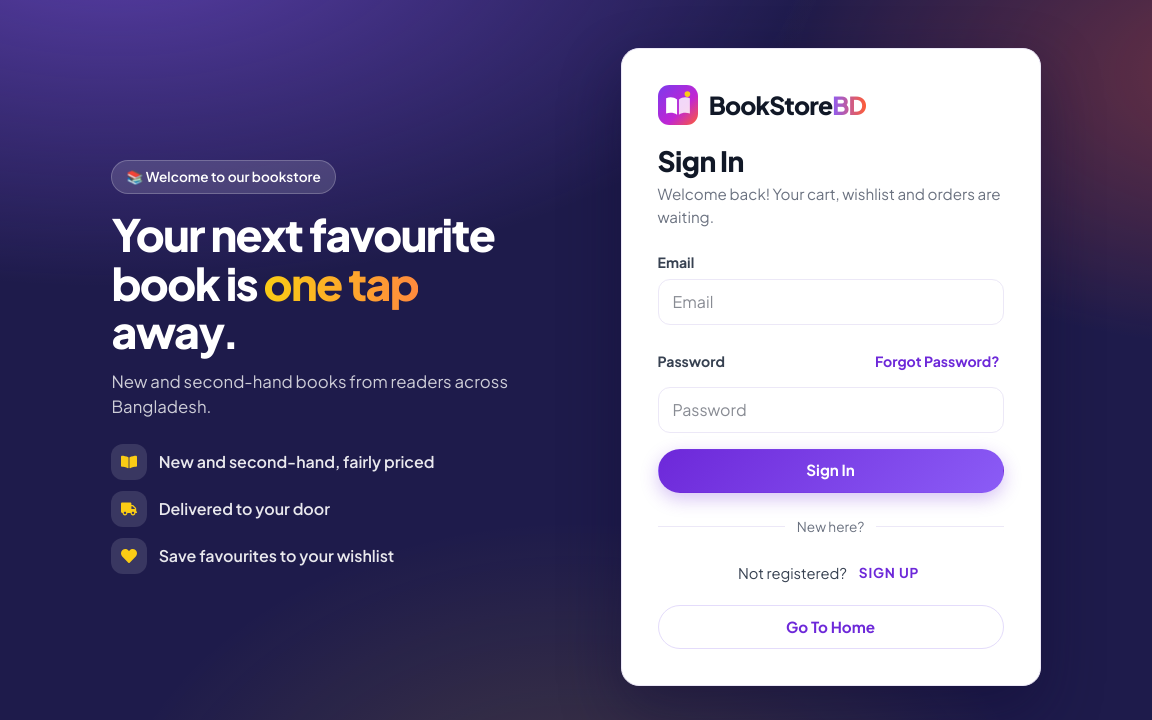
Scenario: the password reset dialog › starts again at the first step each time it opens
Click the button "Forgot Password?" at point(937, 361), box x1=871 y1=341 x2=1004 y2=381
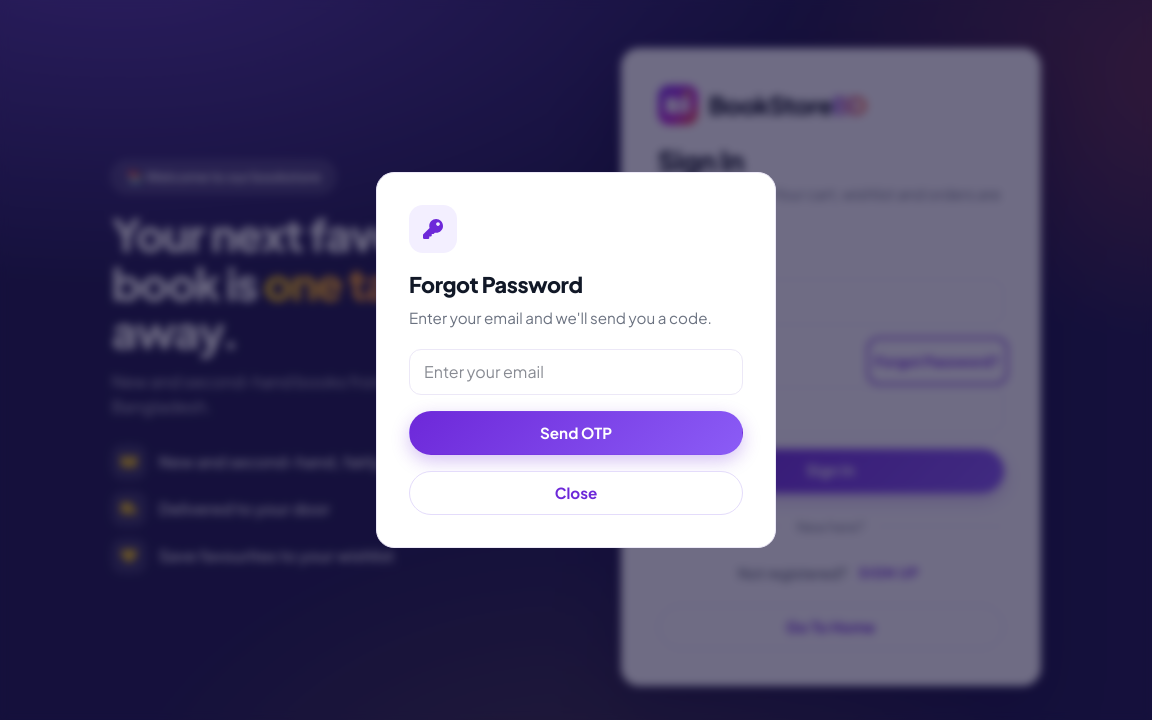
Type "reader@test.com" into the field labelled "email" at point(576, 372), box x1=409 y1=349 x2=743 y2=395
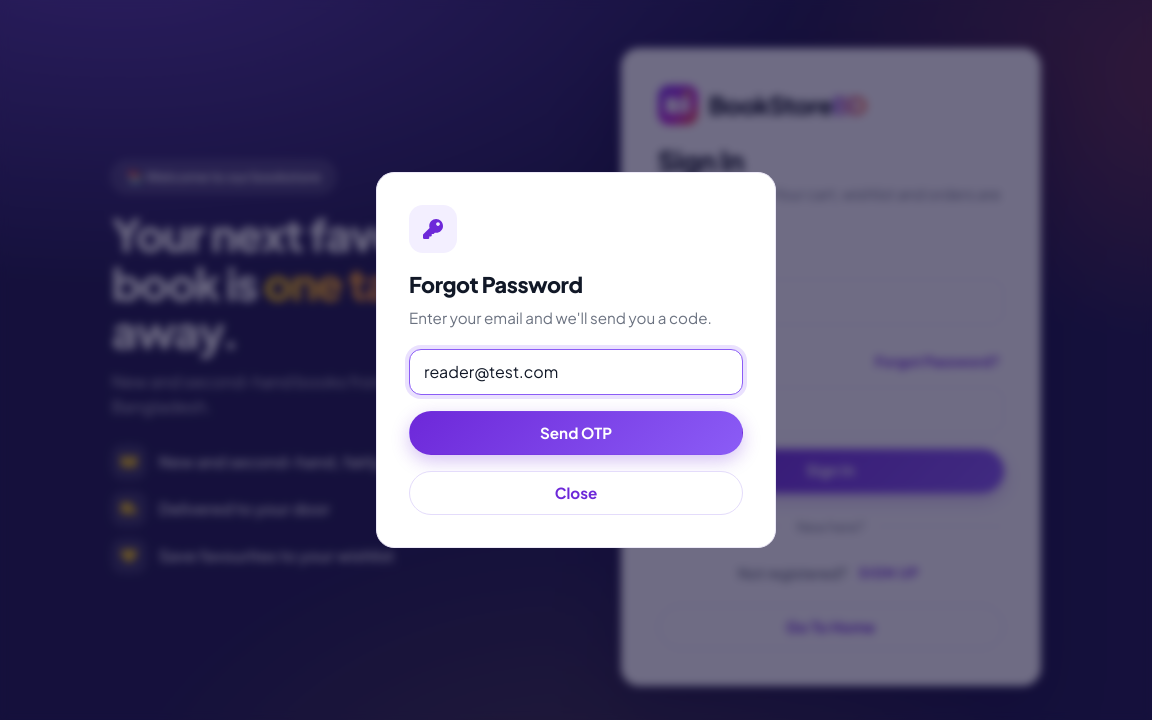
Click the button "Send OTP" at point(576, 433), box x1=409 y1=411 x2=743 y2=455
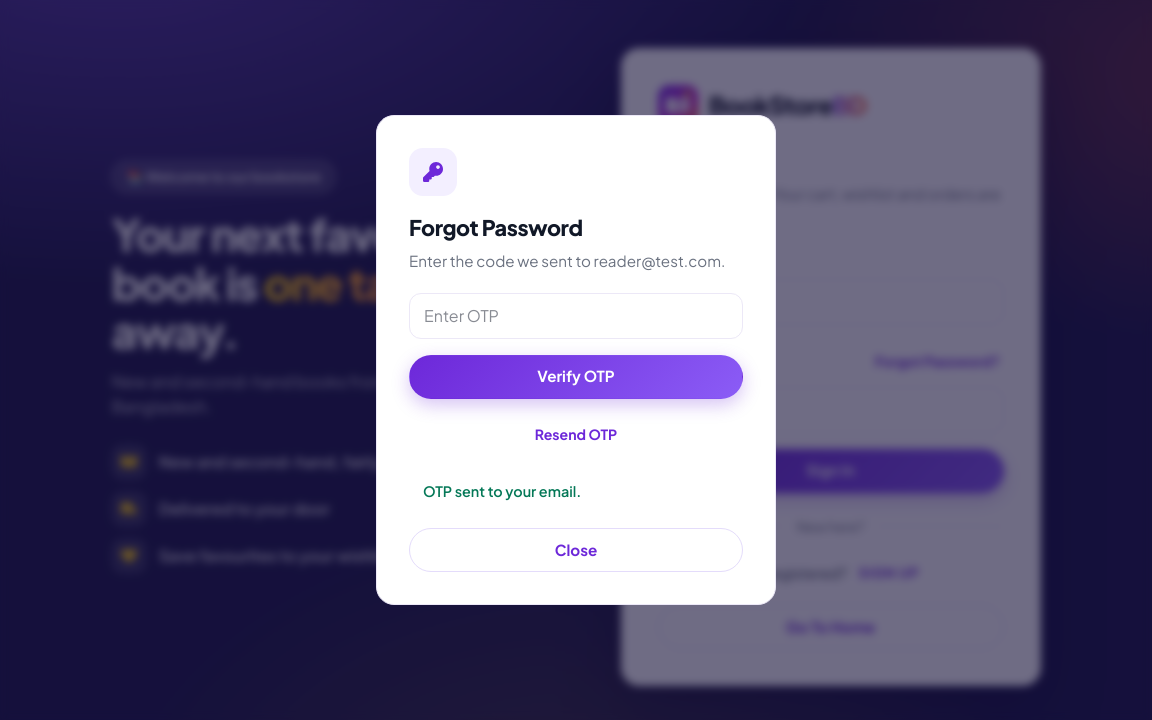
Type "123456" into the field labelled "OTP" at point(576, 316), box x1=409 y1=293 x2=743 y2=339
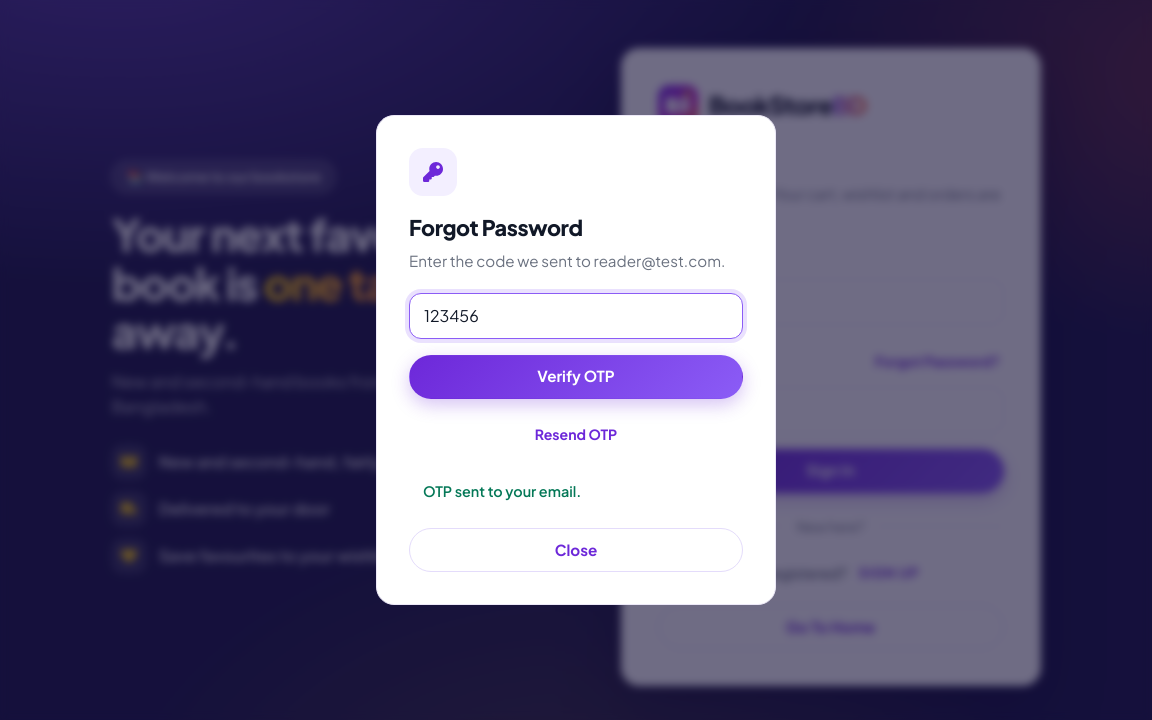
Click the button "Close" at point(576, 550), box x1=409 y1=528 x2=743 y2=572
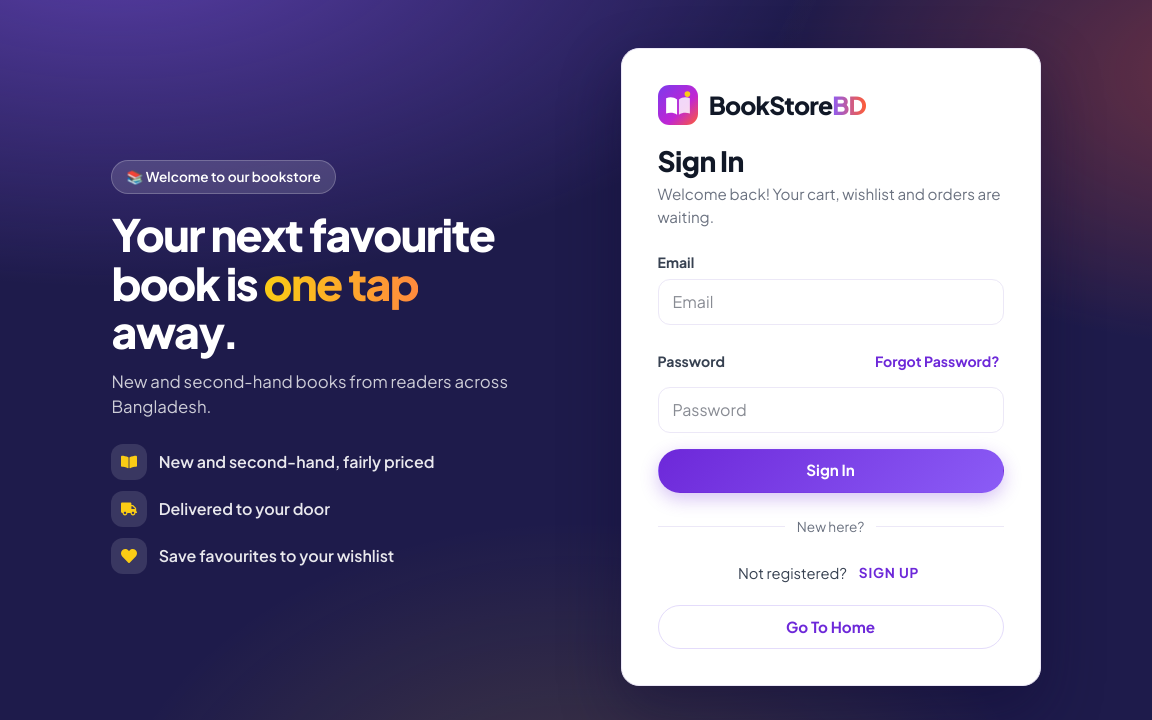
Click the button "Forgot Password?" at point(937, 361), box x1=871 y1=341 x2=1004 y2=381
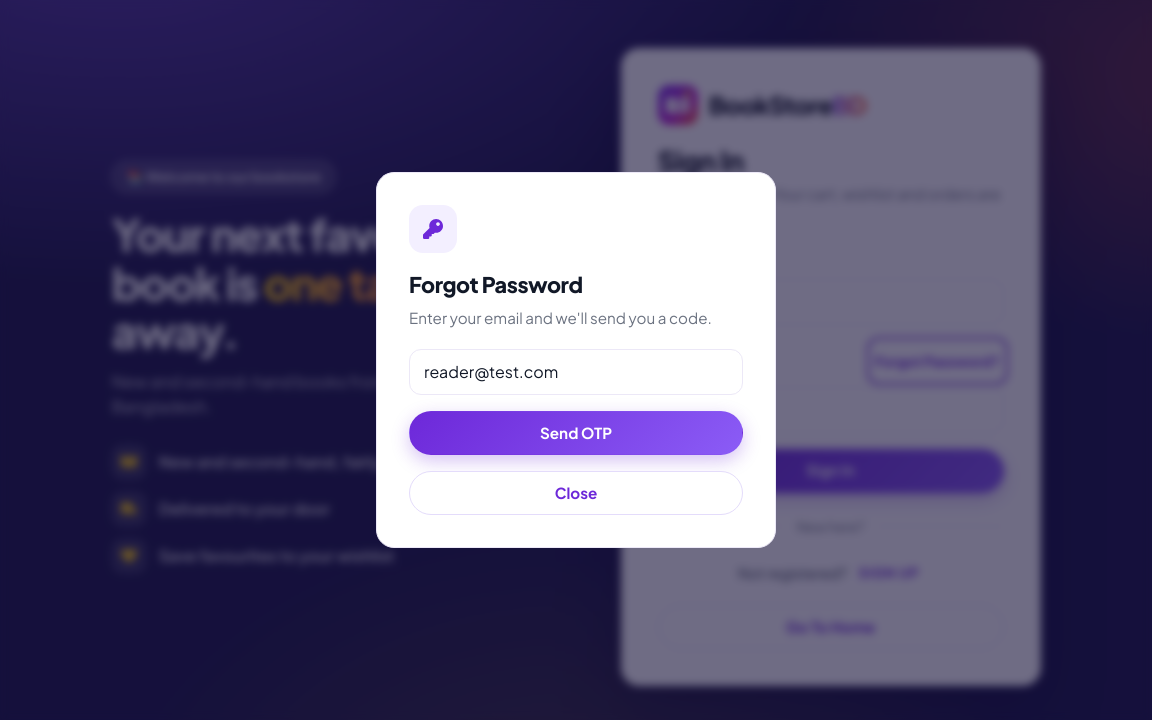
Expected: the button "Send OTP" is shown, x1=409 y1=411 x2=743 y2=455
